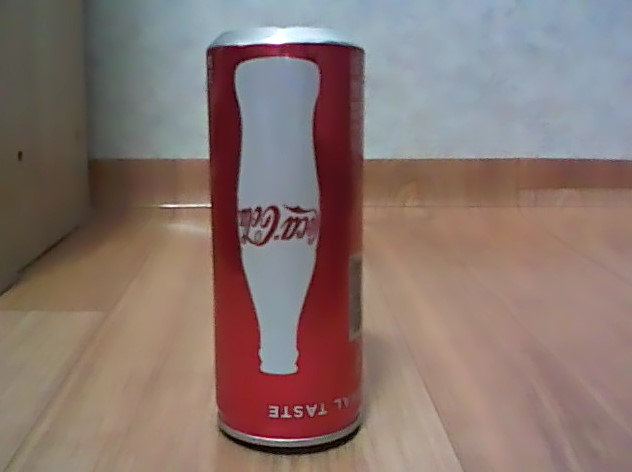Can: (200, 21, 373, 453)
